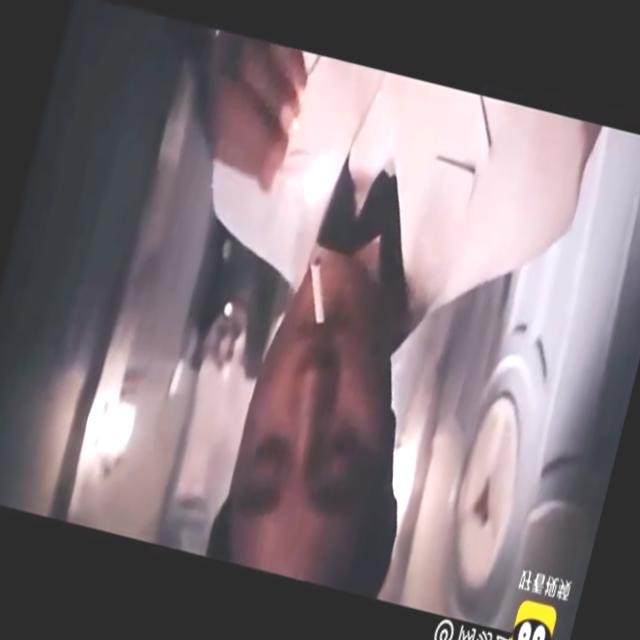smoke: (293, 256, 337, 324)
